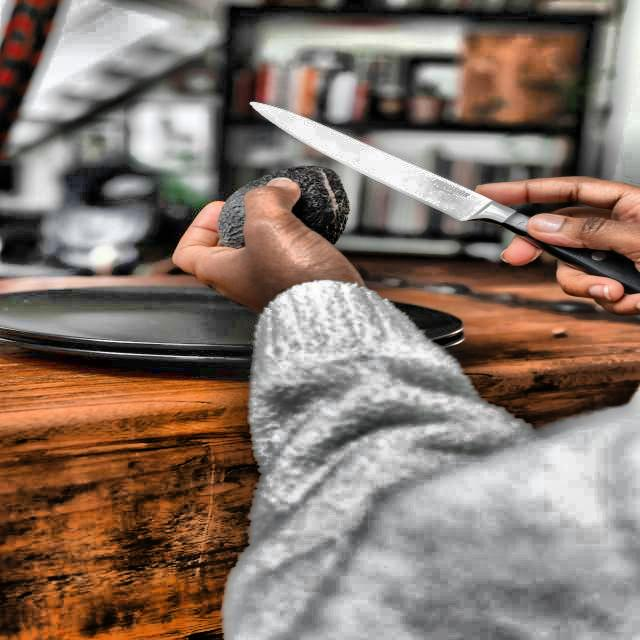knife: (248, 95, 640, 305)
